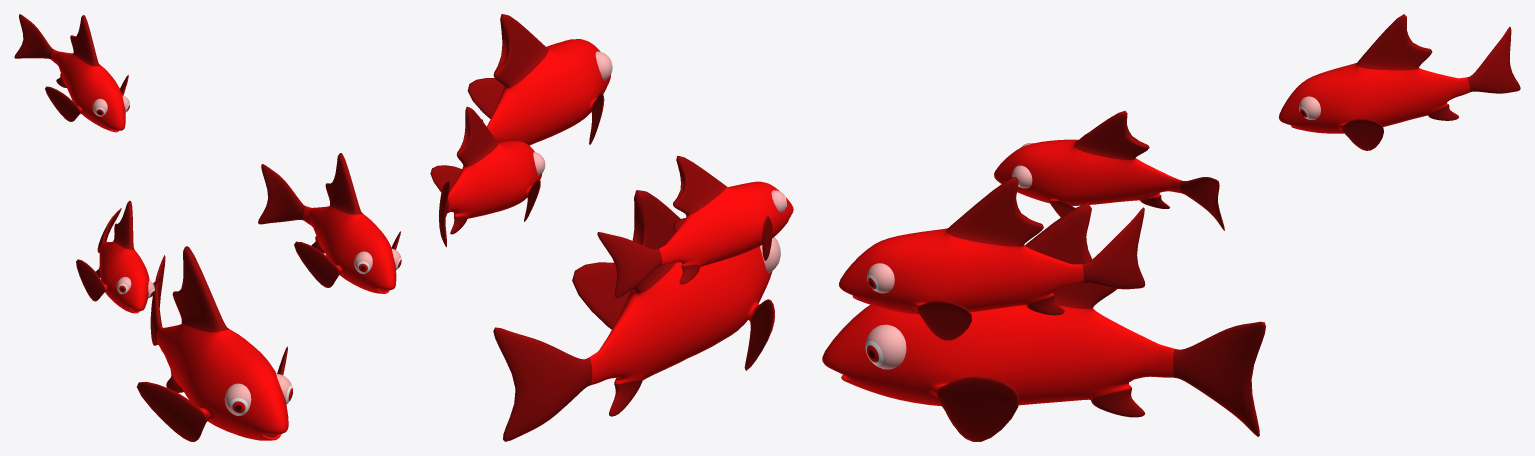
The model's file is fish_v3.glb.
3 renders of one model, left to right at view 1: azimuth 30°, elevation 25°; view 2: azimuth 150°, elevation 25°; view 3: azimuth 270°, elevation 25°, orthographic. The views are drawn at different scales.
Parts seen in each view (by area): view 1: Cube, Cube.001, Cube.003, Cube.002, Sphere, Sphere.001; view 2: Cube, Cube.001, Cube.002, Cube.003, Sphere; view 3: Cube, Cube.001, Cube.003, Cube.002, Sphere, Sphere.001.
Boxes of the visible parts, x1=… form: Cube: x1=137, y1=246, x2=288, y2=441; Cube.001: x1=258, y1=153, x2=400, y2=293; Cube.003: x1=14, y1=14, x2=128, y2=132; Cube.002: x1=76, y1=200, x2=163, y2=313; Sphere: x1=224, y1=374, x2=292, y2=415; Sphere.001: x1=354, y1=248, x2=401, y2=274; Cube: x1=493, y1=190, x2=774, y2=441; Cube.001: x1=467, y1=14, x2=610, y2=145; Cube.002: x1=597, y1=156, x2=793, y2=298; Cube.003: x1=430, y1=106, x2=542, y2=247; Sphere: x1=760, y1=237, x2=780, y2=272; Cube: x1=822, y1=202, x2=1265, y2=441; Cube.001: x1=839, y1=176, x2=1145, y2=340; Cube.003: x1=1279, y1=14, x2=1520, y2=150; Cube.002: x1=994, y1=111, x2=1224, y2=230; Sphere: x1=865, y1=324, x2=906, y2=369; Sphere.001: x1=867, y1=263, x2=894, y2=293.
Bounding box in the file's own units: 7.75 × 8.14 × 12.55.
